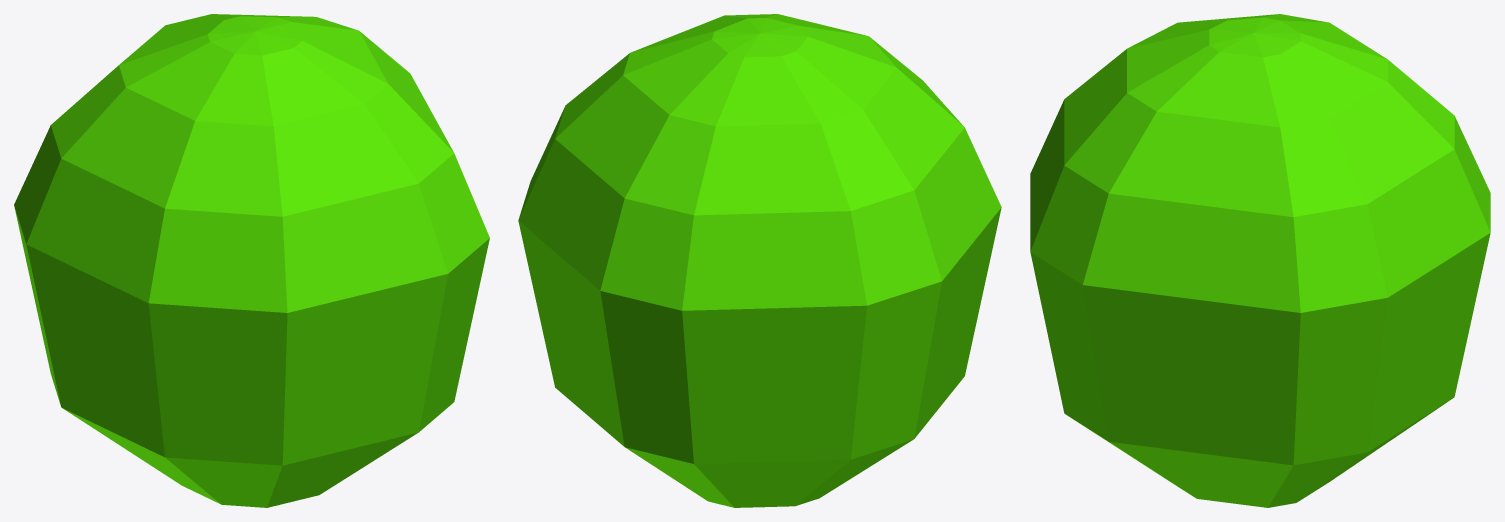
File: Bush.fbx
The picture shows the model from 3 angles, left to right: view 1: azimuth 30°, elevation 25°; view 2: azimuth 150°, elevation 25°; view 3: azimuth 270°, elevation 25°; orthographic projection.
Visible parts, largest first — view 1: Sphere; view 2: Sphere; view 3: Sphere.
Boxes of the visible parts, x1,y1,x2,y2 form: Sphere: (14,14,489,507); Sphere: (518,14,1001,507); Sphere: (1030,14,1490,507).
Bounding box in the file's own units: 192 × 201 × 187.
